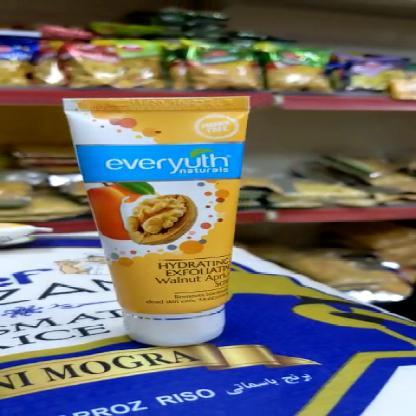EY HYD-EXF WALNT APR SCRUB AYR100G: (65, 95, 253, 345)
